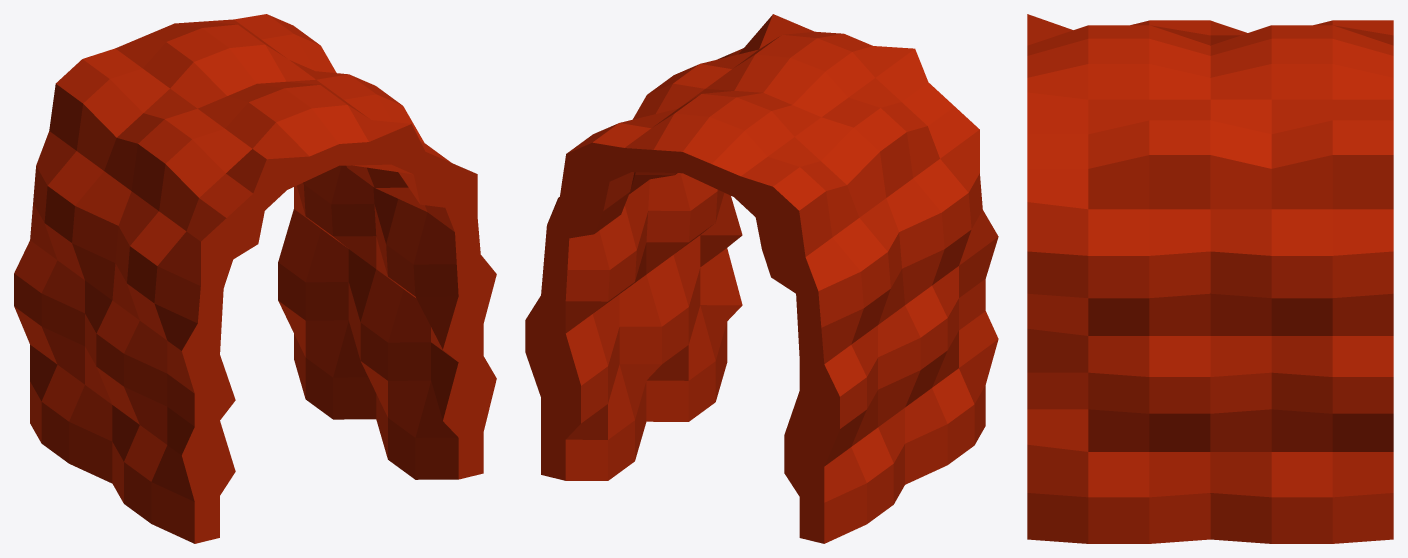
File: arch.fbx
The picture shows the model from 3 angles, left to right: view 1: azimuth 30°, elevation 25°; view 2: azimuth 150°, elevation 25°; view 3: azimuth 270°, elevation 25°; orthographic projection. The views are drawn at different scales.
Visible parts, largest first — view 1: Cube.001; view 2: Cube.001; view 3: Cube.001.
Boxes of the visible parts, left/top/right/bottom form: Cube.001: left=14, top=14, right=496, bottom=543; Cube.001: left=525, top=14, right=998, bottom=543; Cube.001: left=1027, top=14, right=1393, bottom=543.
Bounding box in the file's own units: 1.93 × 2.28 × 1.72.
